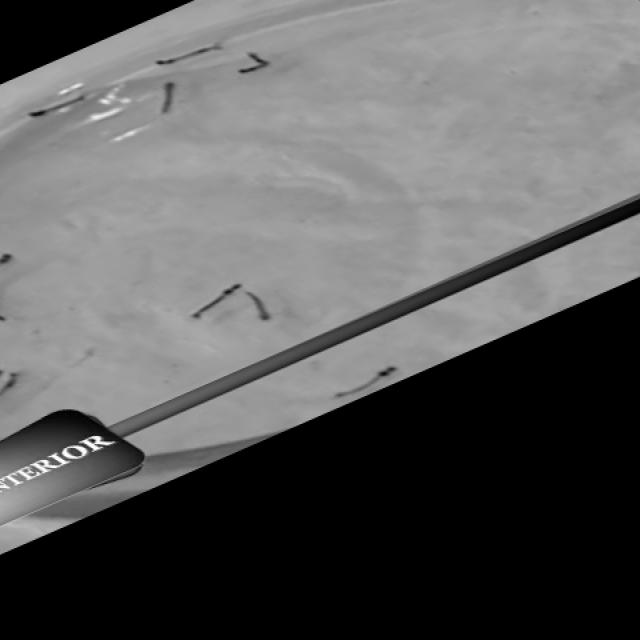larvas: (332, 357, 400, 403), (195, 280, 240, 320), (30, 93, 84, 122), (155, 42, 220, 66), (246, 290, 270, 327), (240, 52, 270, 75), (0, 363, 19, 397), (156, 82, 174, 113), (0, 246, 18, 276)
